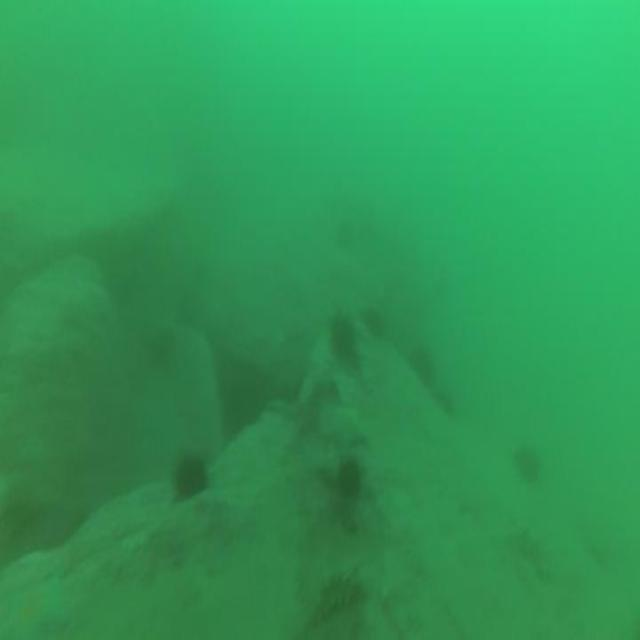echinus: (174, 455, 207, 499), (330, 314, 356, 358), (514, 441, 540, 482), (338, 458, 361, 498), (409, 346, 432, 384), (367, 306, 381, 336)
holothurian: (307, 571, 363, 624)
